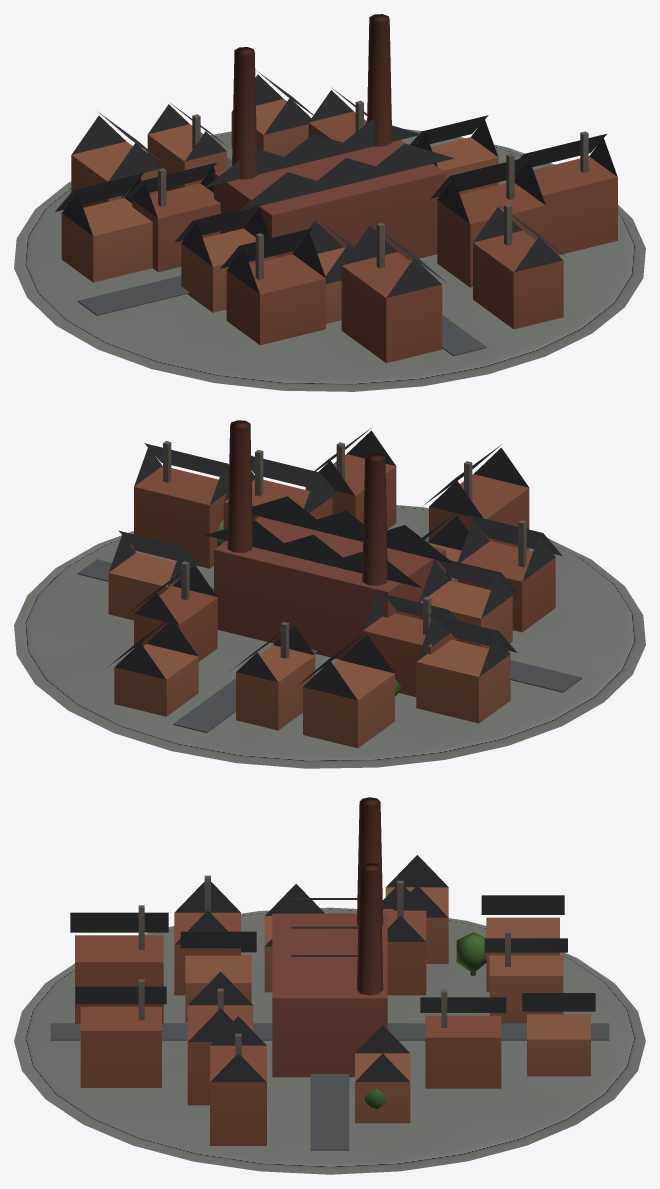
File: settlement_3_5.glb
The picture shows the model from 3 angles, top to bottom: view 1: azimuth 30°, elevation 25°; view 2: azimuth 150°, elevation 25°; view 3: azimuth 270°, elevation 25°; orthographic projection.
Parts seen in each view (by area): view 1: part_0; view 2: part_0; view 3: part_0.
Part boxes in pixels (<box>): part_0: <box>14,14,645,391</box>; part_0: <box>14,420,645,768</box>; part_0: <box>14,797,645,1174</box>.
Size of the model in its own units: 32.8 by 11.89 by 32.8.
